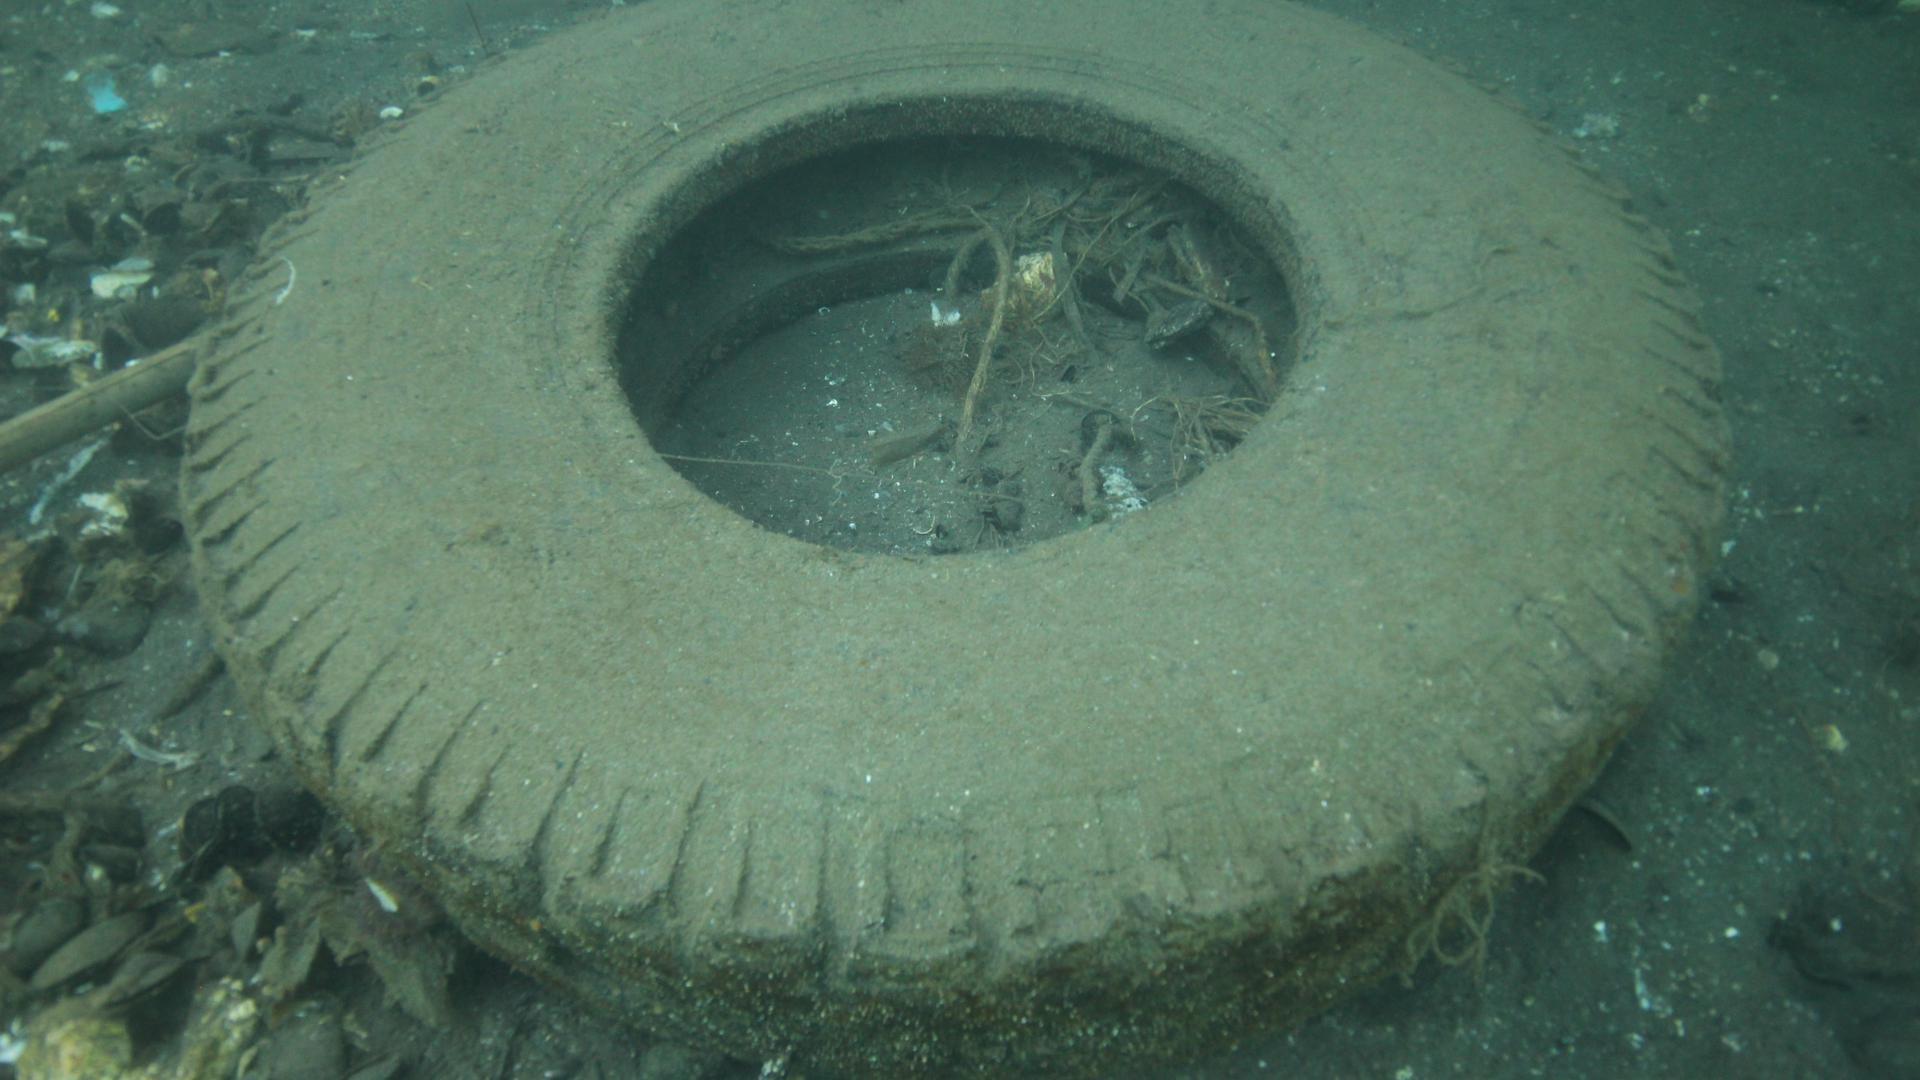tire: (179, 0, 1725, 1080)
